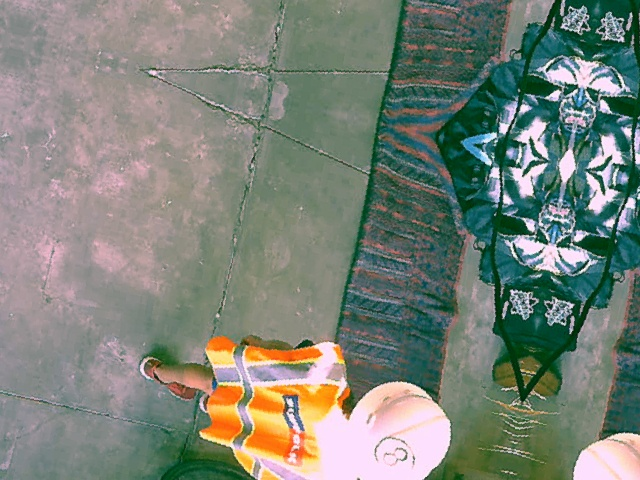eight: (370, 433, 419, 479)
